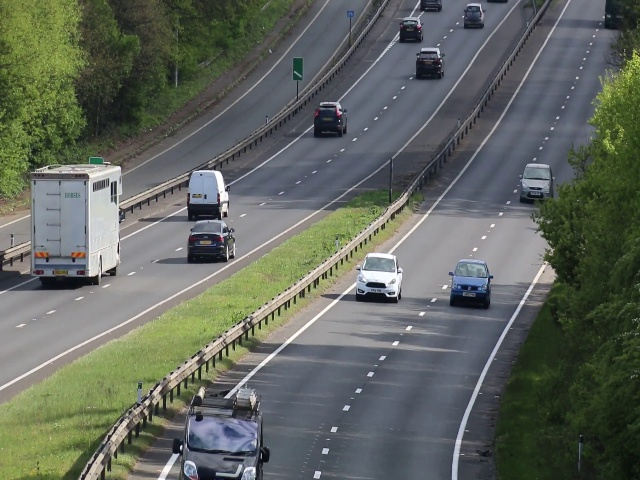car: (25, 163, 122, 283), (184, 393, 259, 477), (355, 254, 404, 300), (187, 170, 232, 220), (186, 218, 237, 262), (451, 257, 491, 306), (519, 163, 553, 205), (313, 99, 349, 138), (416, 47, 443, 79), (399, 17, 422, 43), (463, 4, 486, 28)
